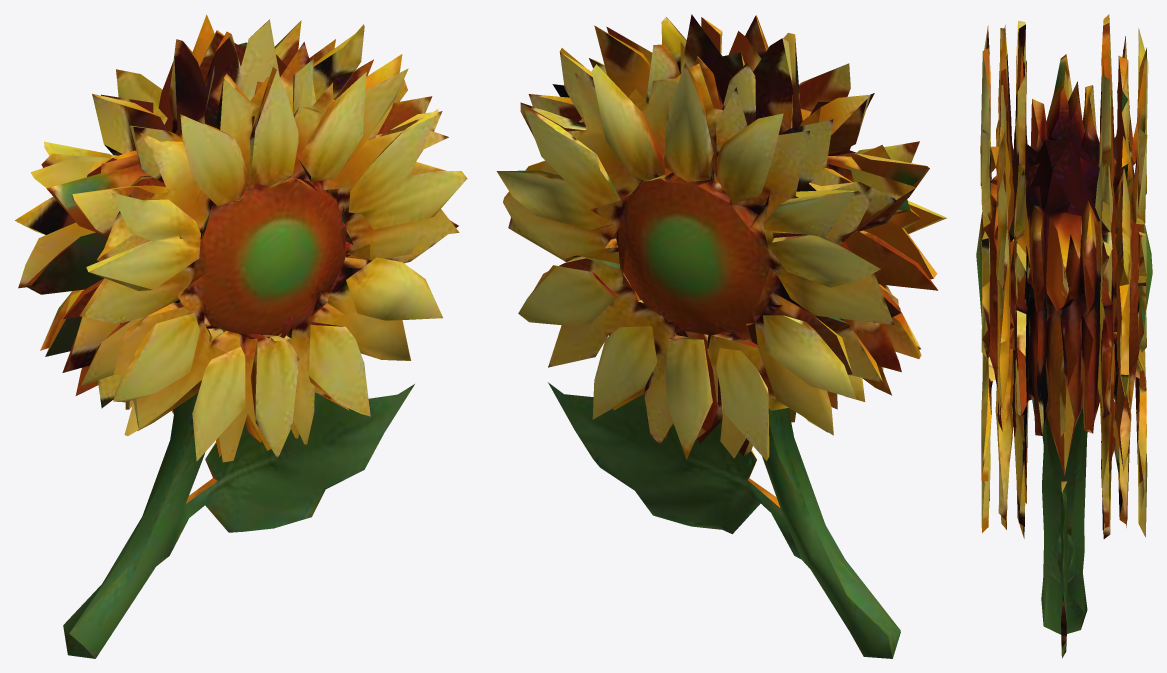
Rendered from sunflower.glb.
The picture shows the model from 3 angles, left to right: view 1: azimuth 30°, elevation 25°; view 2: azimuth 150°, elevation 25°; view 3: azimuth 270°, elevation 25°; orthographic projection. The views are drawn at different scales.
Visible parts, largest first — view 1: sunflower; view 2: sunflower; view 3: sunflower.
Boxes of the visible parts, x1,y1,x2,y2 form: sunflower: [15, 14, 467, 658]; sunflower: [496, 14, 946, 658]; sunflower: [976, 14, 1152, 658].
Size of the model in its own units: 0.7195 by 1 by 0.2383.
Materials: 1 (1 with a texture image).
